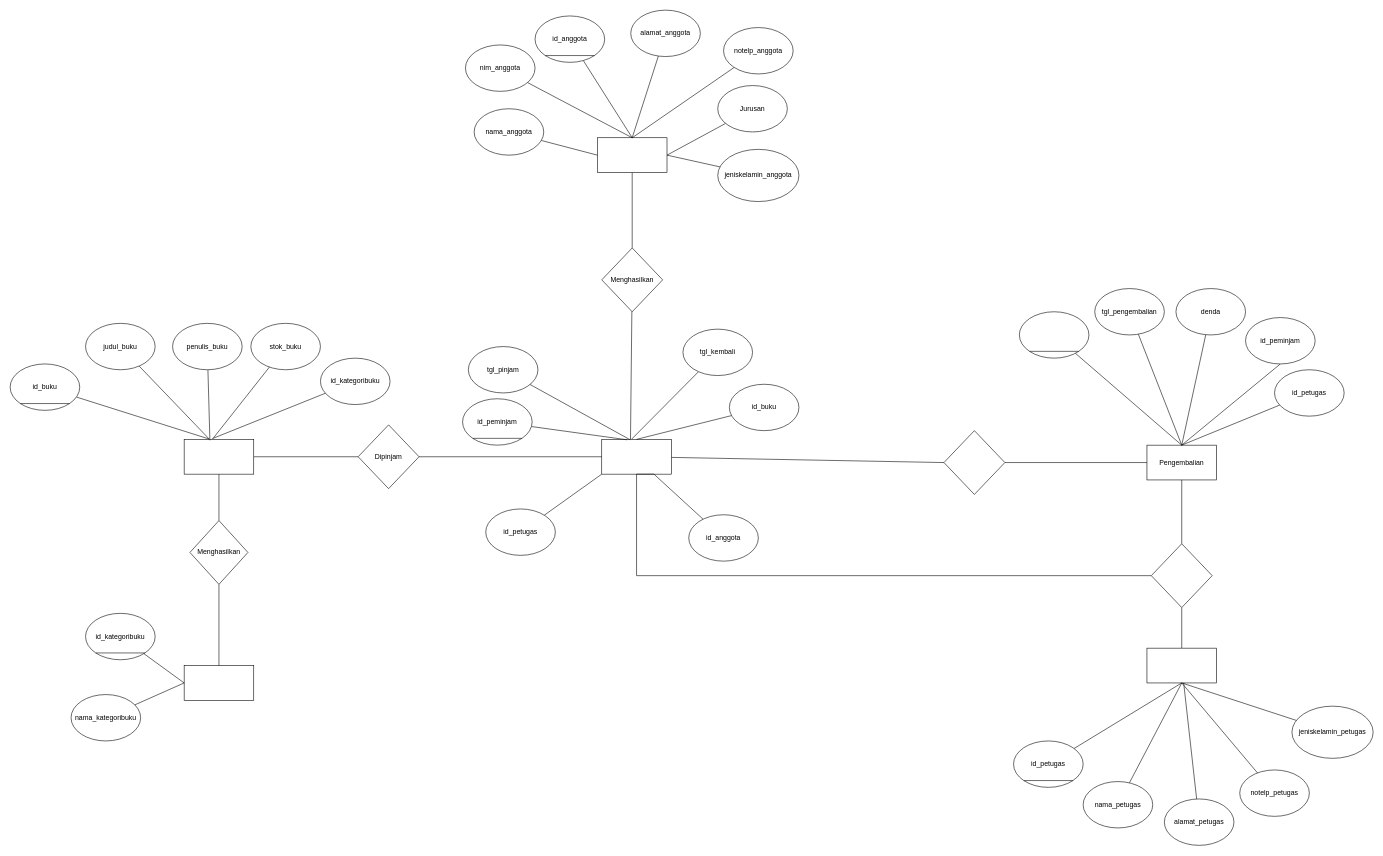
This 1383x856 diagram has some shape labels left out. The shapes that lost their labels are listed below. From the top down, each one's centre as x and y in pixels, then its label:
At point (632, 155): "Anggota".
At point (1054, 334): "id_pengembalian".
At point (219, 456): "Buku".
At point (636, 456): "Peminjam".
At point (974, 462): "Melakukan".
At point (1181, 575): "Mengawasi".
At point (219, 682): "Kategori Buku".
At point (1181, 665): "Petugas".
